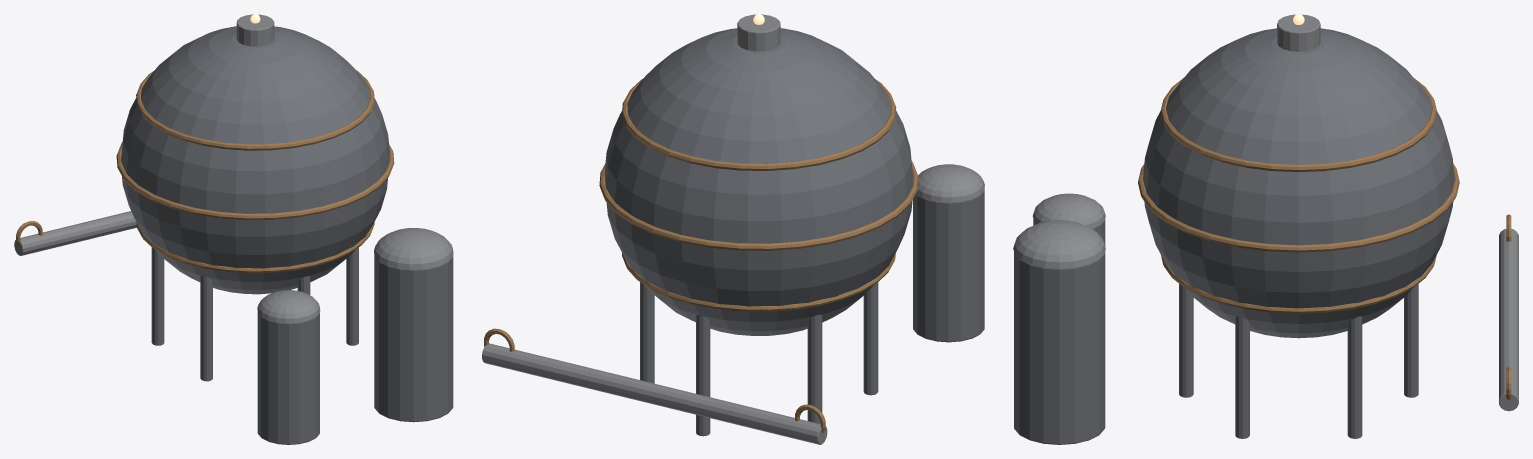
File: SM_BG_Silo.fbx
3 renders of one model, left to right at view 1: azimuth 30°, elevation 25°; view 2: azimuth 150°, elevation 25°; view 3: azimuth 270°, elevation 25°, orthographic. The views are drawn at different scales.
Parts seen in each view (by area): view 1: SM_BG_Silo; view 2: SM_BG_Silo; view 3: SM_BG_Silo.
Boxes of the visible parts, <box> form: SM_BG_Silo: <box>14,14,453,444</box>; SM_BG_Silo: <box>482,14,984,444</box>; SM_BG_Silo: <box>1013,14,1518,444</box>.
Size of the model in its own units: 1626 by 1719 by 2071.
